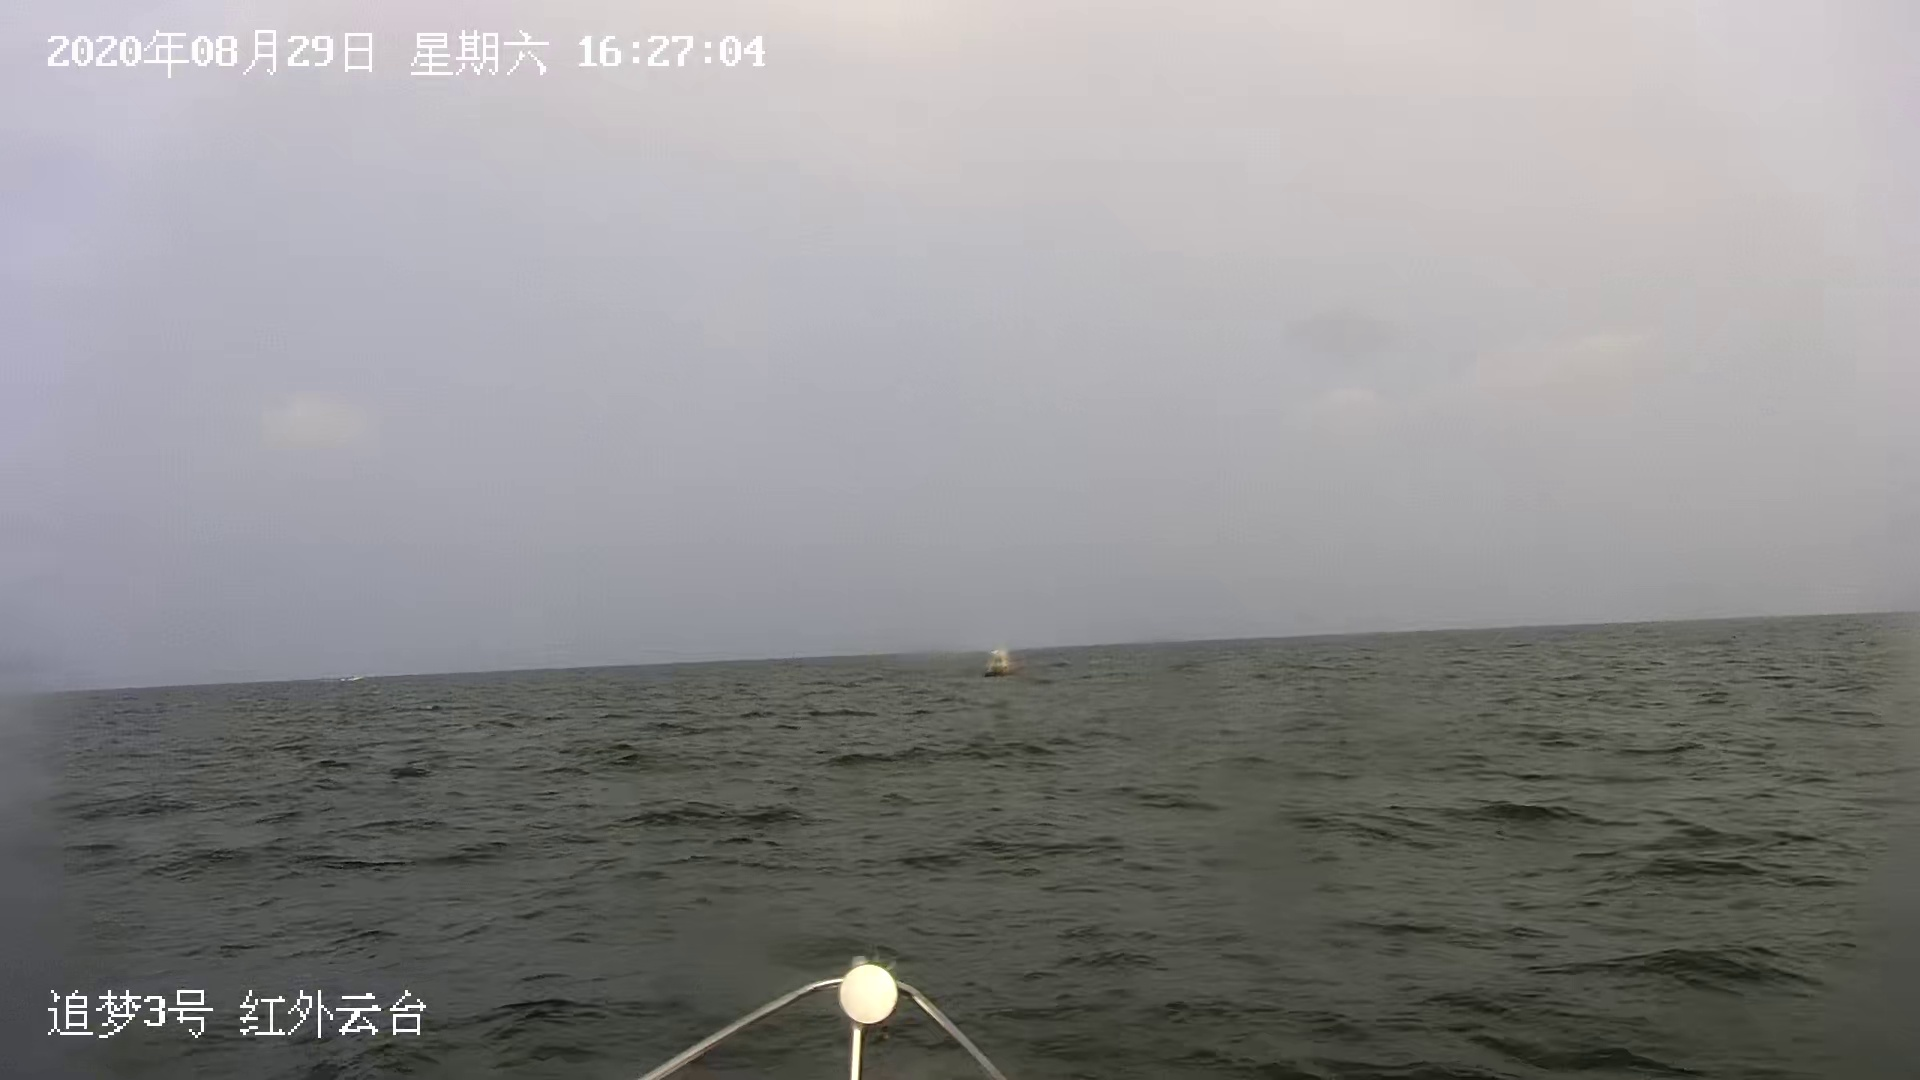barrier: (986, 650, 1022, 682)
